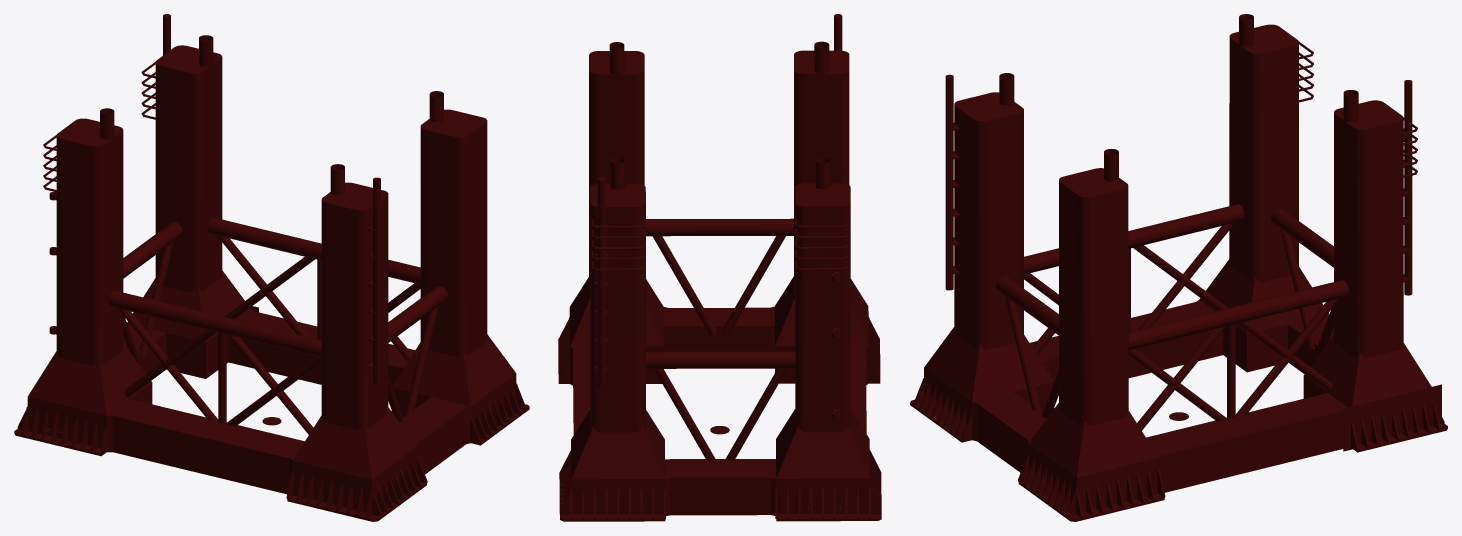
File: sgs.glb
3 renders of one model, left to right at view 1: azimuth 30°, elevation 25°; view 2: azimuth 150°, elevation 25°; view 3: azimuth 270°, elevation 25°, orthographic. The views are drawn at different scales.
Parts seen in each view (by area): view 1: SGS; view 2: SGS; view 3: SGS.
Boxes of the visible parts, x1,y1,x2,y2 form: SGS: [14, 14, 529, 521]; SGS: [558, 14, 881, 521]; SGS: [910, 14, 1447, 521].
Size of the model in its own units: 7.8 by 5.86 by 8.43.
